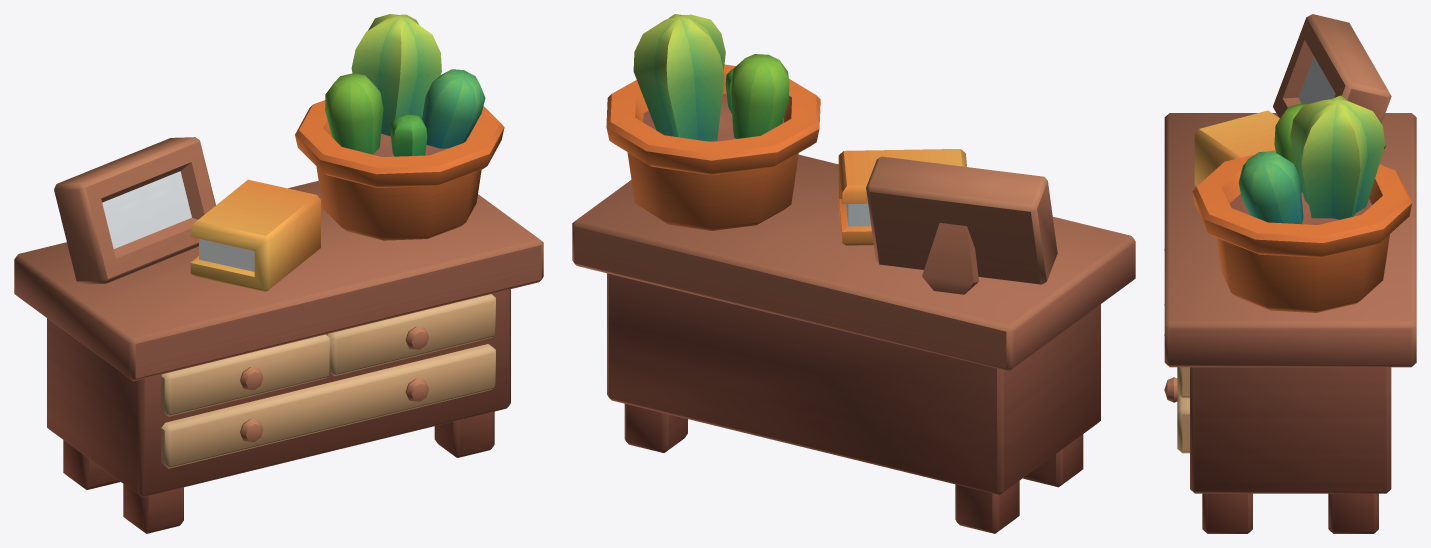
The model's file is cabinet-medium-decorated.glb.
3 views of the same model, side by side, from view 1: azimuth 30°, elevation 25°; view 2: azimuth 150°, elevation 25°; view 3: azimuth 270°, elevation 25° (orthographic). The views are drawn at different scales.
Parts seen in each view (by area): view 1: cabinet_medium_decorated; view 2: cabinet_medium_decorated; view 3: cabinet_medium_decorated.
Boxes of the visible parts, x1,y1,x2,y2 form: cabinet_medium_decorated: [14, 14, 543, 533]; cabinet_medium_decorated: [572, 14, 1135, 533]; cabinet_medium_decorated: [1164, 14, 1416, 533].
Bounding box in the file's own units: 2.04 × 1.83 × 1.
Materials: 1 (1 with a texture image).
